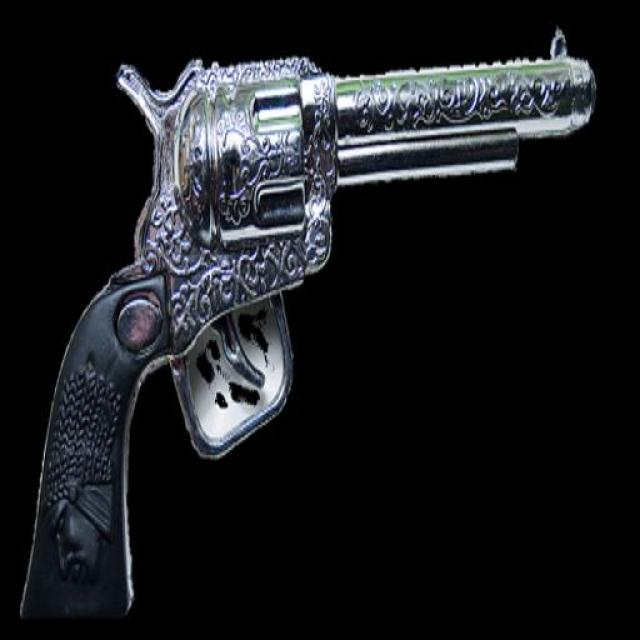pistol: (16, 23, 598, 618)
